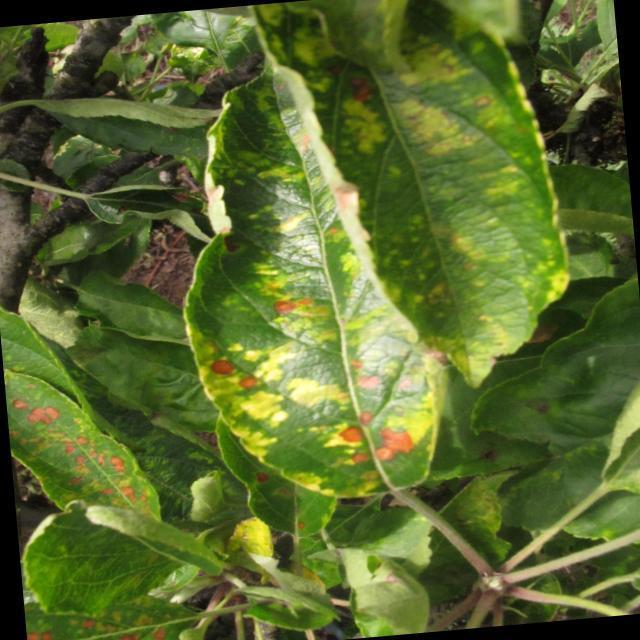Mosaic Virus: (166, 61, 434, 524), (361, 6, 553, 376)
